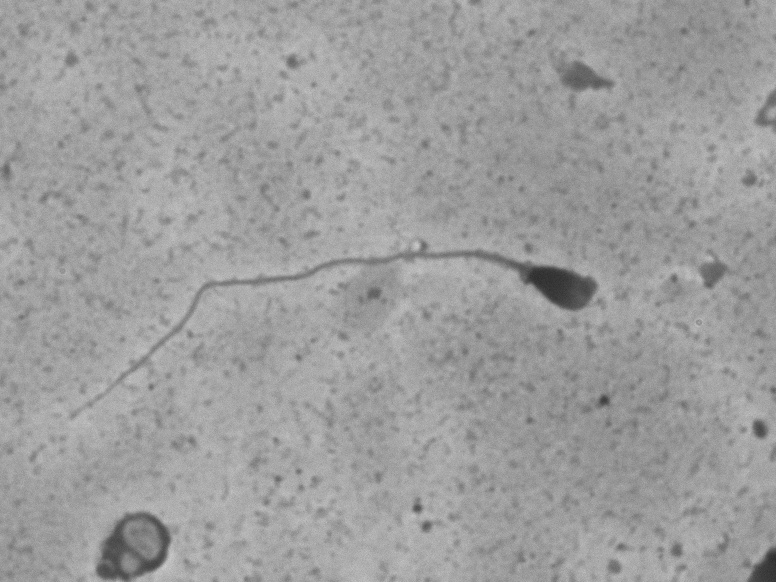Abnormal: (37, 200, 619, 435)
